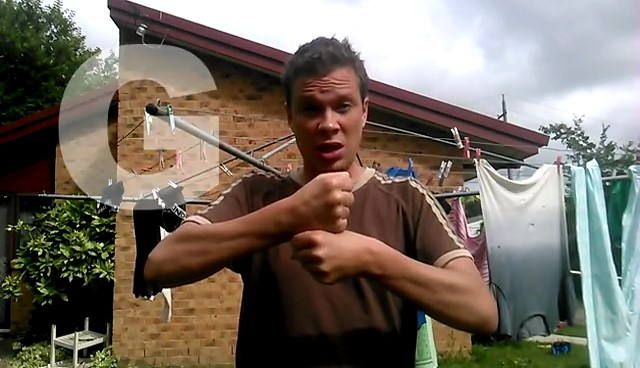G: (281, 162, 383, 295)
